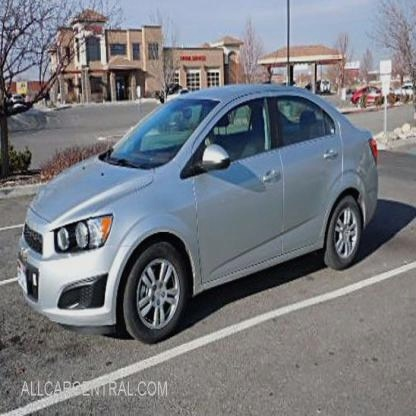Vehicle: (18, 82, 380, 343)
